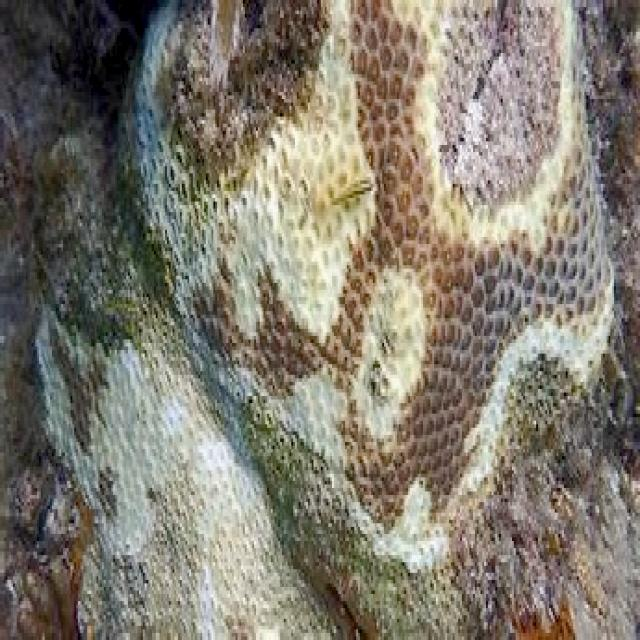Coral: (35, 0, 614, 640)
